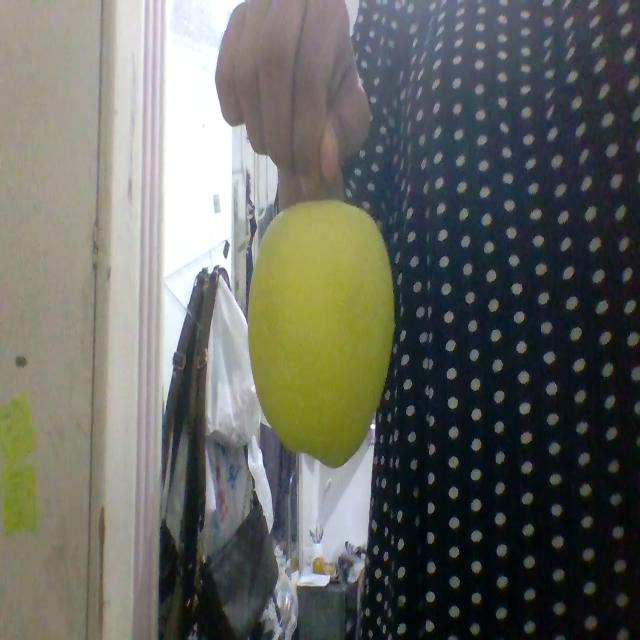50-_ripeness: (248, 197, 394, 468)
